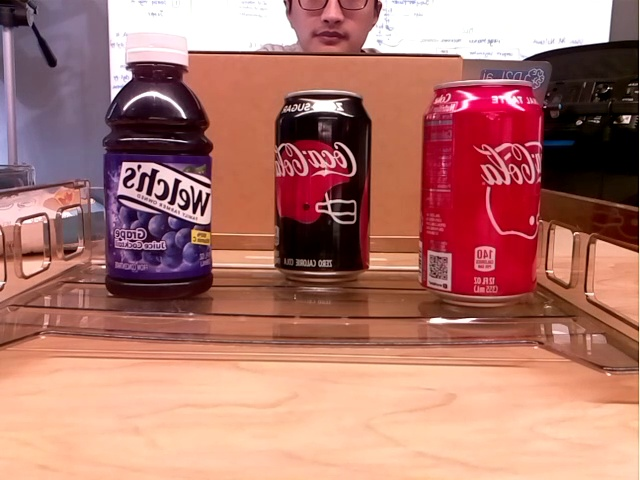cocacola: (420, 80, 542, 309)
cocacola-zero: (273, 91, 372, 286)
juice: (100, 32, 213, 301)
